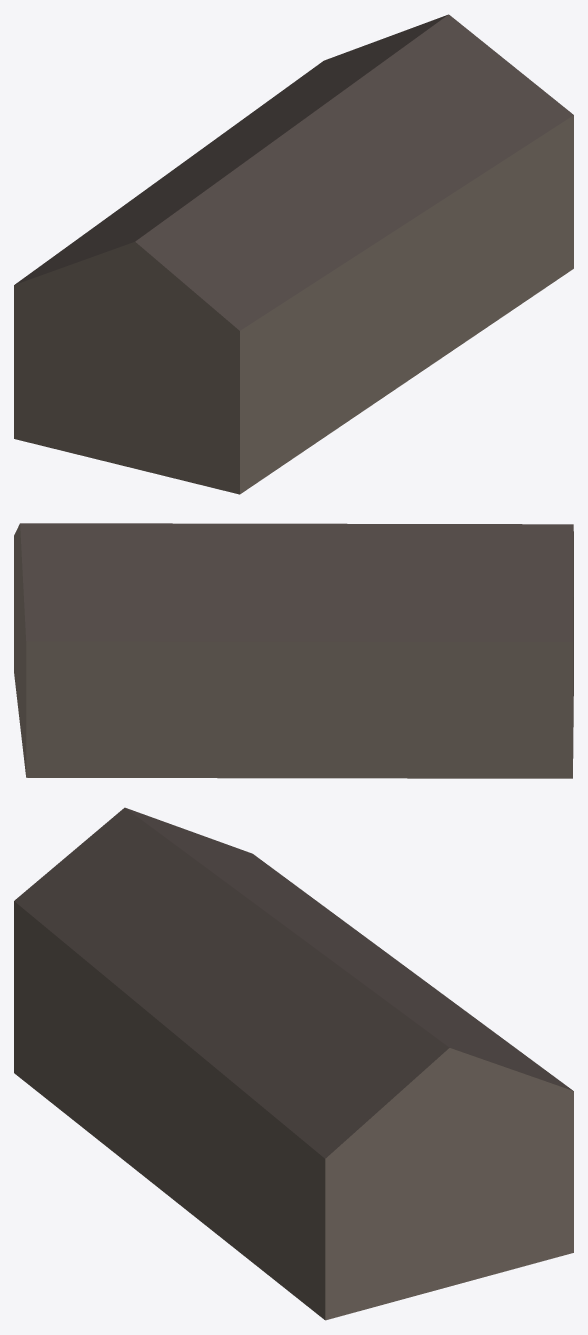
3 renders of one model, top to bottom at view 1: azimuth 30°, elevation 25°; view 2: azimuth 150°, elevation 25°; view 3: azimuth 270°, elevation 25°, orthographic. The views are drawn at different scales.
Visible parts, largest first — view 1: HP-w1513026702; view 2: HP-w1513026702; view 3: HP-w1513026702.
Boxes of the visible parts, bbox=[...] form: HP-w1513026702: bbox=[14, 14, 573, 494]; HP-w1513026702: bbox=[14, 523, 573, 778]; HP-w1513026702: bbox=[14, 807, 573, 1320].
Size of the model in its own units: 24.3 by 8.87 by 18.85.
